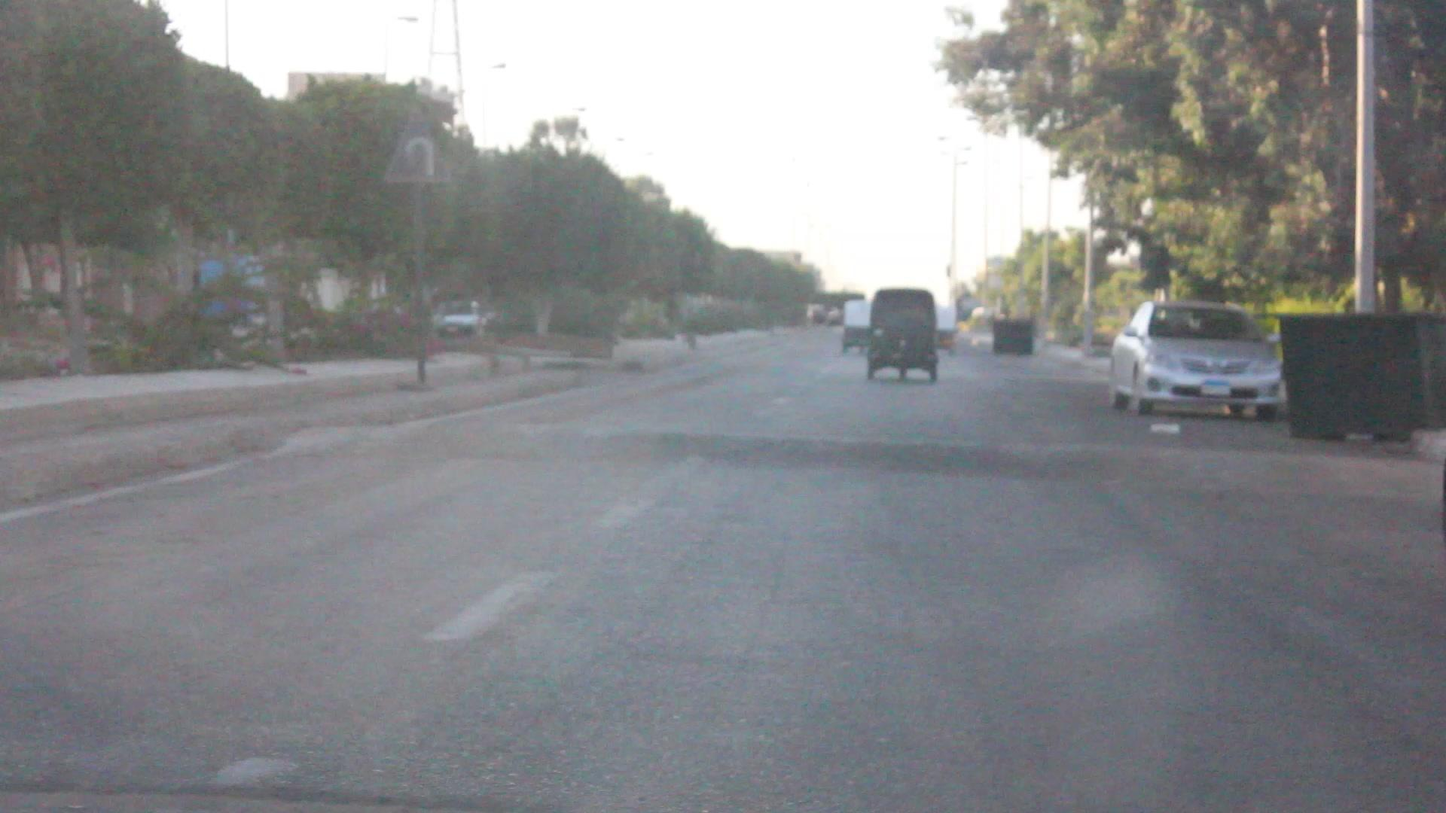Bump: (228, 418, 1435, 504)
